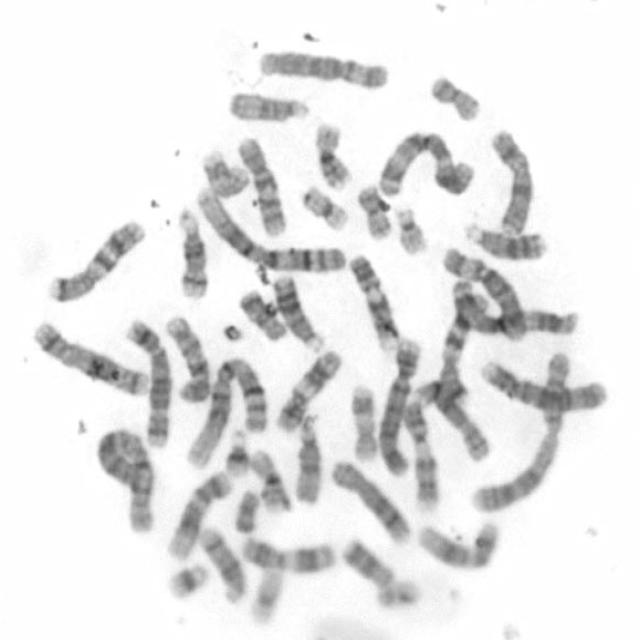A1: (192, 184, 346, 276), (181, 351, 270, 471)
A2: (466, 348, 574, 513), (89, 423, 157, 536)
A3: (444, 280, 580, 338), (372, 126, 477, 198)
B4: (475, 355, 609, 413), (375, 333, 422, 477)
B5: (27, 318, 152, 398), (122, 313, 174, 449)
C10: (232, 130, 289, 238), (162, 312, 212, 404)
C11: (271, 345, 344, 434), (236, 533, 337, 574)
C12: (162, 466, 235, 562), (413, 514, 501, 572)
C6: (438, 242, 527, 342), (254, 44, 390, 92)
C7: (42, 213, 147, 306), (435, 292, 491, 412)
C8: (326, 454, 413, 547), (414, 378, 496, 462)
C9: (346, 250, 400, 354), (399, 398, 441, 513)
D13: (270, 270, 325, 352), (461, 218, 548, 263)
D14: (196, 523, 248, 604), (174, 204, 210, 302)
D15: (224, 86, 313, 125), (291, 411, 324, 507)
E16: (246, 445, 293, 515), (310, 118, 352, 190)
E17: (197, 145, 251, 201), (345, 380, 379, 463)
E18: (337, 533, 396, 590), (234, 286, 288, 343)
F19: (298, 181, 351, 234), (246, 563, 286, 627)
F20: (425, 71, 482, 122), (354, 179, 394, 242)
G21: (161, 558, 209, 602), (221, 424, 251, 480)
G22: (391, 202, 431, 256), (372, 575, 422, 610)
X: (486, 124, 536, 238)
Y: (230, 484, 261, 536)
